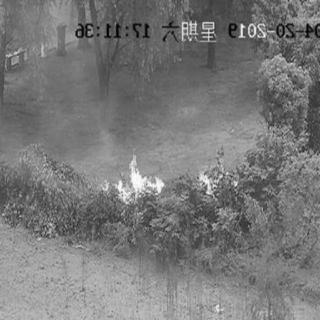Fire: (99, 147, 169, 205), (197, 156, 239, 200)
